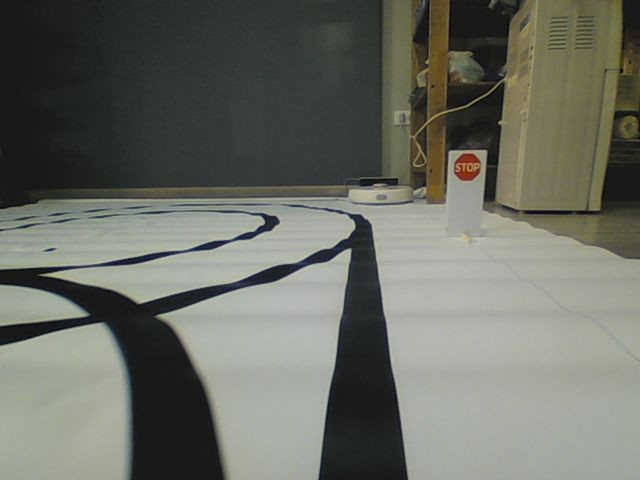Stop: (453, 152, 480, 181)
